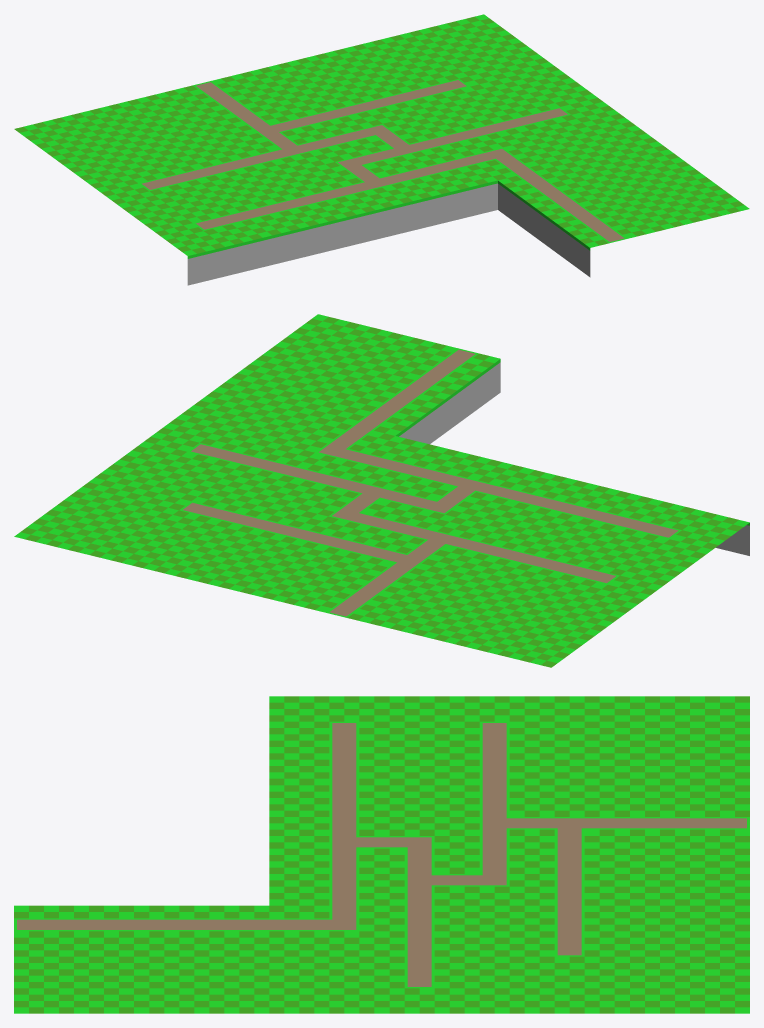
Rendered from Map 08 - 3.1.fbx.
3 renders of one model, top to bottom at view 1: azimuth 30°, elevation 25°; view 2: azimuth 150°, elevation 25°; view 3: azimuth 270°, elevation 25°, orthographic. The views are drawn at different scales.
Parts seen in each view (by area): view 1: Plane.029, Plane.031; view 2: Plane.029, Plane.031; view 3: Plane.029, Plane.031.
Boxes of the visible parts, x1,y1,x2,y2 form: Plane.029: (14,14,749,285); Plane.031: (142,80,624,241); Plane.029: (14,314,749,667); Plane.031: (183,349,678,616); Plane.029: (14,696,749,1013); Plane.031: (17,723,746,986).
Size of the model in its own units: 500 by 30 by 490.
